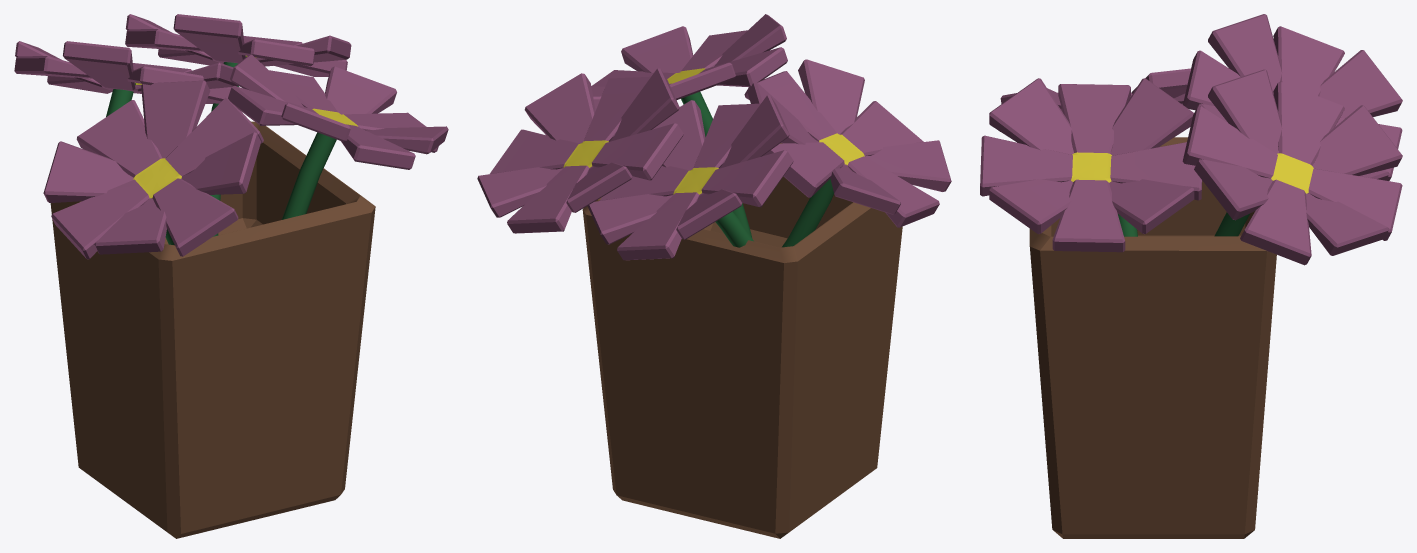
Rendered from plant 4 pink flowers.fbx.
The picture shows the model from 3 angles, left to right: view 1: azimuth 30°, elevation 25°; view 2: azimuth 150°, elevation 25°; view 3: azimuth 270°, elevation 25°; orthographic projection. The views are drawn at different scales.
Parts seen in each view (by area): view 1: group45_pCube1213; view 2: group45_pCube1213; view 3: group45_pCube1213.
Boxes of the visible parts, x1,y1,x2,y2 form: group45_pCube1213: [14, 14, 448, 538]; group45_pCube1213: [477, 14, 951, 538]; group45_pCube1213: [980, 14, 1402, 538].
Size of the model in its own units: 18.89 by 22.5 by 19.52.
